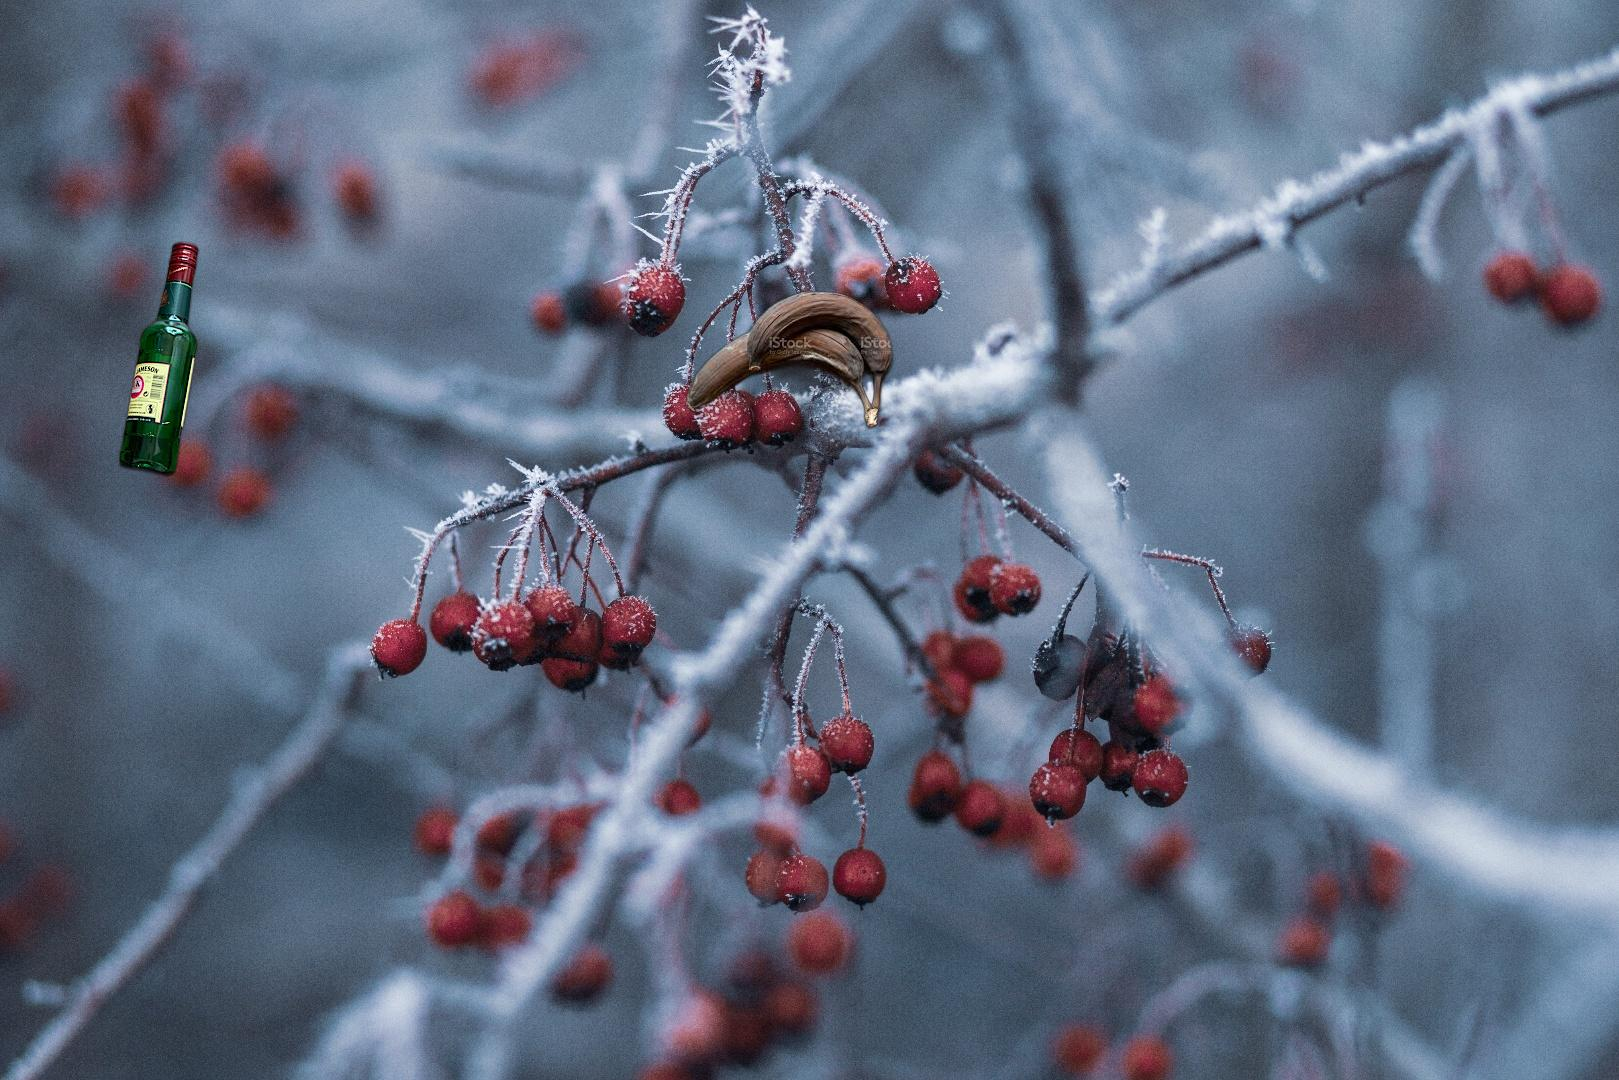biological: (653, 289, 913, 445)
glass: (115, 235, 203, 482)
